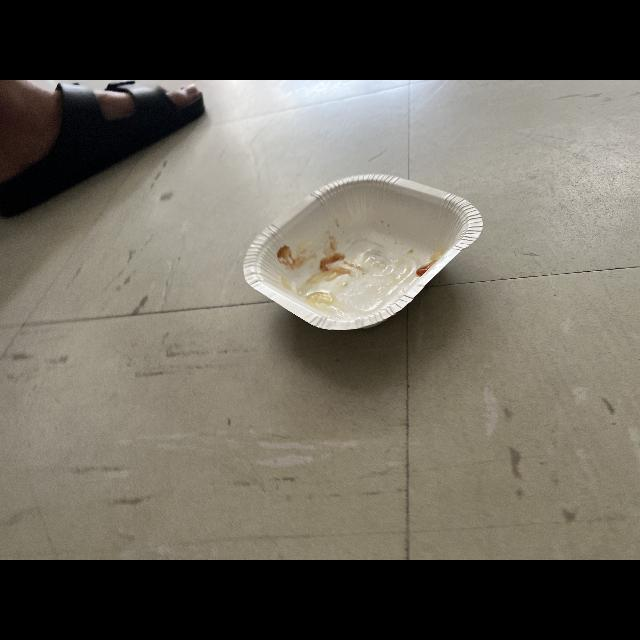cardboard_bowl: (238, 166, 487, 332)
